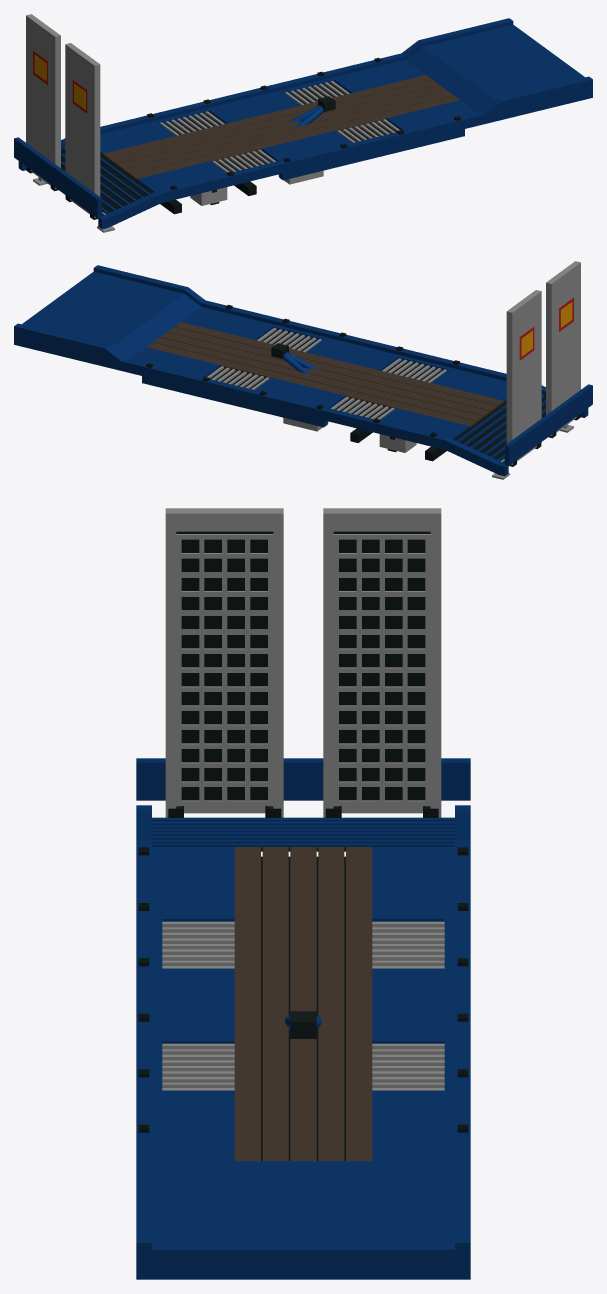
File: hueffermann-hpa-24-81-l-trailer.glb
The picture shows the model from 3 angles, top to bottom: view 1: azimuth 30°, elevation 25°; view 2: azimuth 150°, elevation 25°; view 3: azimuth 270°, elevation 25°; orthographic projection. The views are drawn at different scales.
Visible parts, largest first — view 1: trailer, dolly; view 2: trailer, dolly; view 3: trailer.
Part boxes in pixels (bbox=[...]): trailer: bbox=[14, 14, 592, 232]; dolly: bbox=[210, 96, 335, 205]; trailer: bbox=[14, 261, 592, 479]; dolly: bbox=[271, 343, 396, 452]; trailer: bbox=[136, 508, 470, 1279].
Size of the model in its own units: 8.72 by 2.84 by 2.55.
